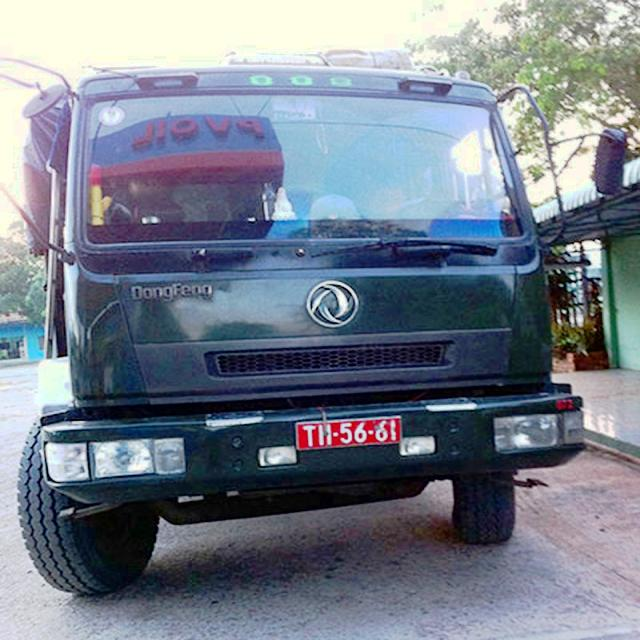license_plate: (298, 416, 402, 448)
